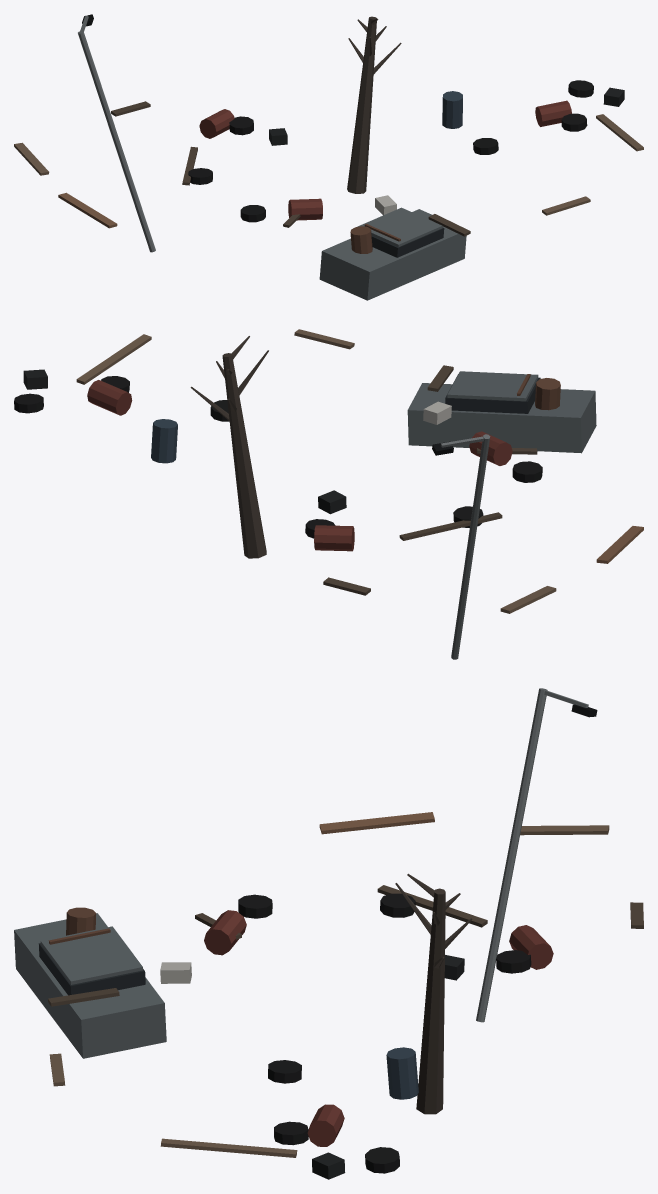
File: prop_flood_debris_b.glb
3 renders of one model, top to bottom at view 1: azimuth 30°, elevation 25°; view 2: azimuth 150°, elevation 25°; view 3: azimuth 270°, elevation 25°, orthographic. The views are drawn at different scales.
Visible parts, largest first — view 1: prop_flood_debris_b; view 2: prop_flood_debris_b; view 3: prop_flood_debris_b.
Part boxes in pixels (x1,y1,x2,y2): prop_flood_debris_b: [14, 14, 643, 300]; prop_flood_debris_b: [14, 329, 643, 659]; prop_flood_debris_b: [14, 688, 643, 1179].
Bounding box in the file's own units: 17.27 × 6.74 × 12.81.
